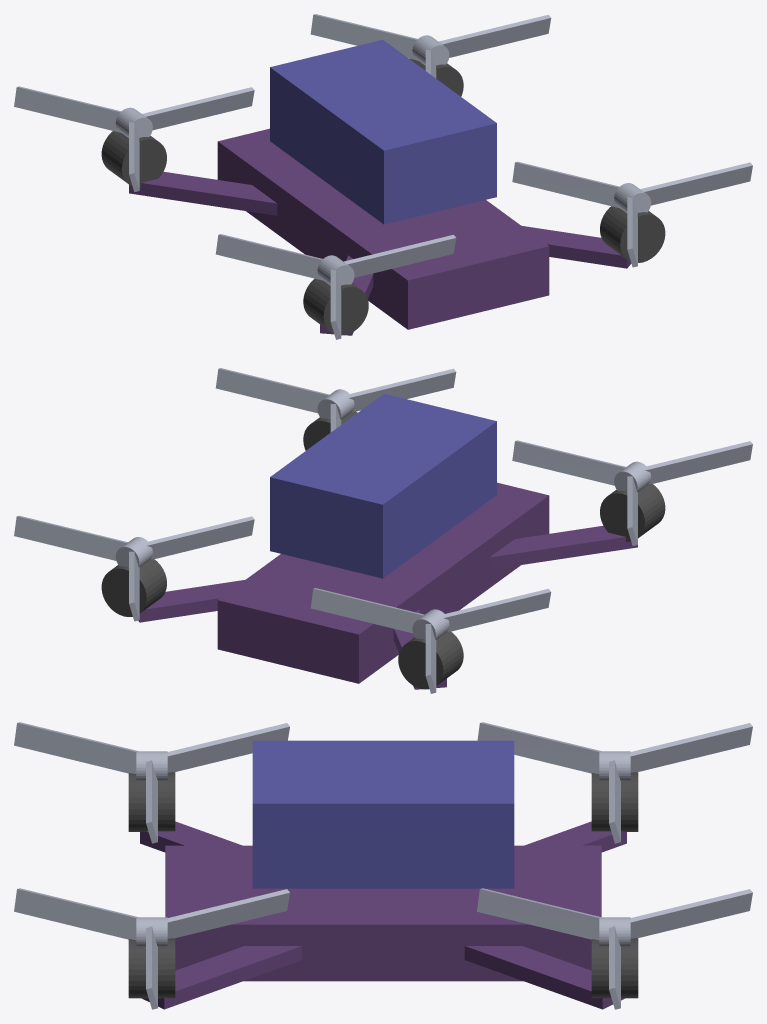
The model's file is Rooster.glb.
3 renders of one model, top to bottom at view 1: azimuth 30°, elevation 25°; view 2: azimuth 150°, elevation 25°; view 3: azimuth 270°, elevation 25°, orthographic. The views are drawn at different scales.
Parts seen in each view (by area): view 1: battery, frame_body, prop_2, prop_3, prop_0, prop_1, arm_3, motor_2, motor_0, motor_3, arm_0, motor_1; view 2: battery, frame_body, prop_3, prop_1, prop_2, prop_0, arm_2, motor_3, motor_1, motor_2, arm_1, motor_0; view 3: battery, frame_body, prop_1, prop_0, prop_2, prop_3, arm_1, arm_0, motor_0, motor_1, motor_2, motor_3 (+2 smaller).
Boxes of the visible parts, x1,y1,x2,y2 form: battery: [270, 39, 496, 224]; frame_body: [217, 128, 549, 329]; prop_2: [215, 234, 456, 339]; prop_3: [14, 86, 254, 192]; prop_0: [512, 161, 752, 267]; prop_1: [310, 14, 551, 78]; arm_3: [129, 171, 277, 215]; motor_2: [303, 278, 368, 335]; motor_0: [600, 206, 665, 262]; motor_3: [101, 131, 166, 187]; arm_0: [521, 225, 631, 268]; motor_1: [409, 58, 463, 96]; battery: [270, 393, 496, 578]; frame_body: [217, 482, 549, 683]; prop_3: [310, 588, 551, 693]; prop_1: [14, 515, 254, 621]; prop_2: [512, 440, 752, 545]; prop_0: [215, 368, 456, 432]; arm_2: [489, 525, 637, 569]; motor_3: [398, 631, 463, 689]; motor_1: [101, 559, 166, 616]; motor_2: [600, 484, 665, 541]; arm_1: [138, 579, 245, 622]; motor_0: [303, 411, 357, 450]; battery: [252, 740, 514, 888]; frame_body: [165, 845, 601, 981]; prop_1: [477, 888, 752, 1009]; prop_0: [14, 888, 289, 1009]; prop_2: [14, 722, 289, 843]; prop_3: [477, 722, 752, 843]; arm_1: [464, 946, 624, 1009]; arm_0: [142, 946, 302, 1009]; motor_0: [128, 938, 175, 998]; motor_1: [591, 938, 638, 998]; motor_2: [128, 772, 175, 831]; motor_3: [591, 772, 638, 831].
Size of the model in its own units: 0.2027 by 0.06 by 0.2369.
